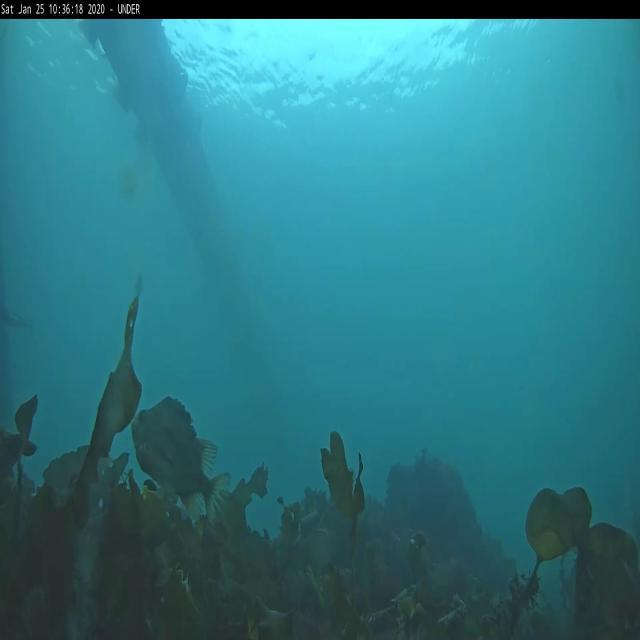fish: (132, 396, 231, 517), (0, 305, 34, 333), (135, 273, 144, 298)
